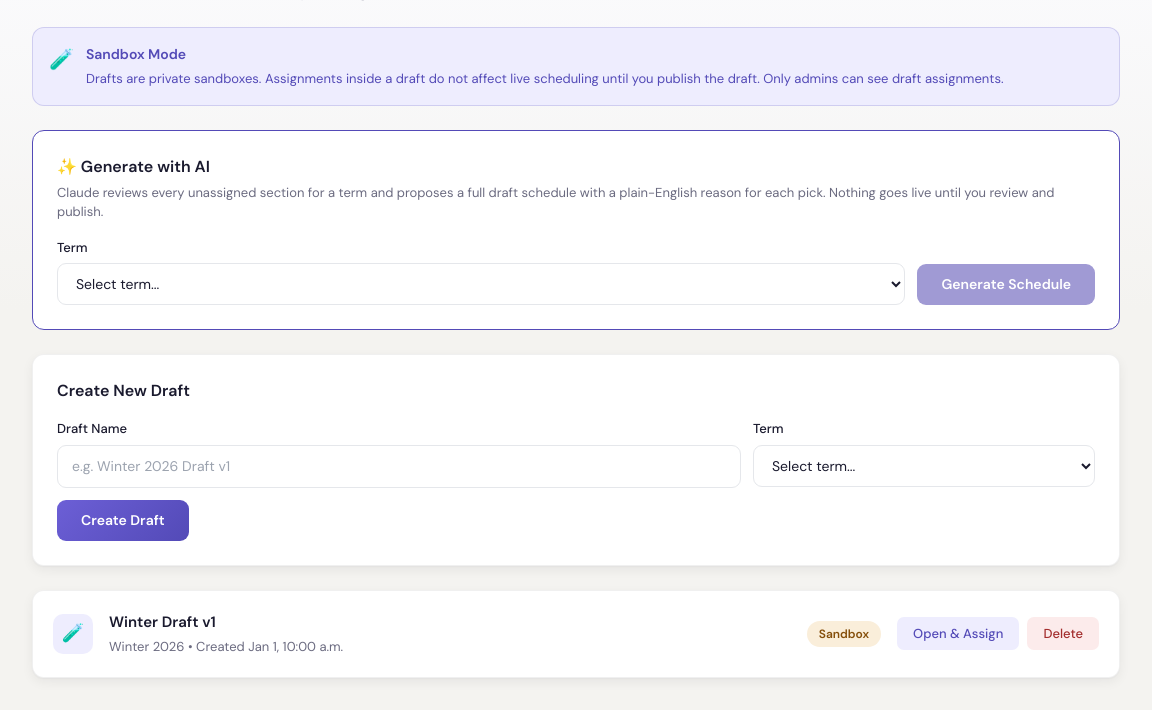
Scenario: AdminDrafts › deletes a draft, clearing its assignments first
(page scrolled)
Check: the link "Winter Draft v1" is shown, box x1=109 y1=612 x2=216 y2=632
Click the button "Delete".
click(1063, 634)  # box x1=1027 y1=617 x2=1099 y2=650
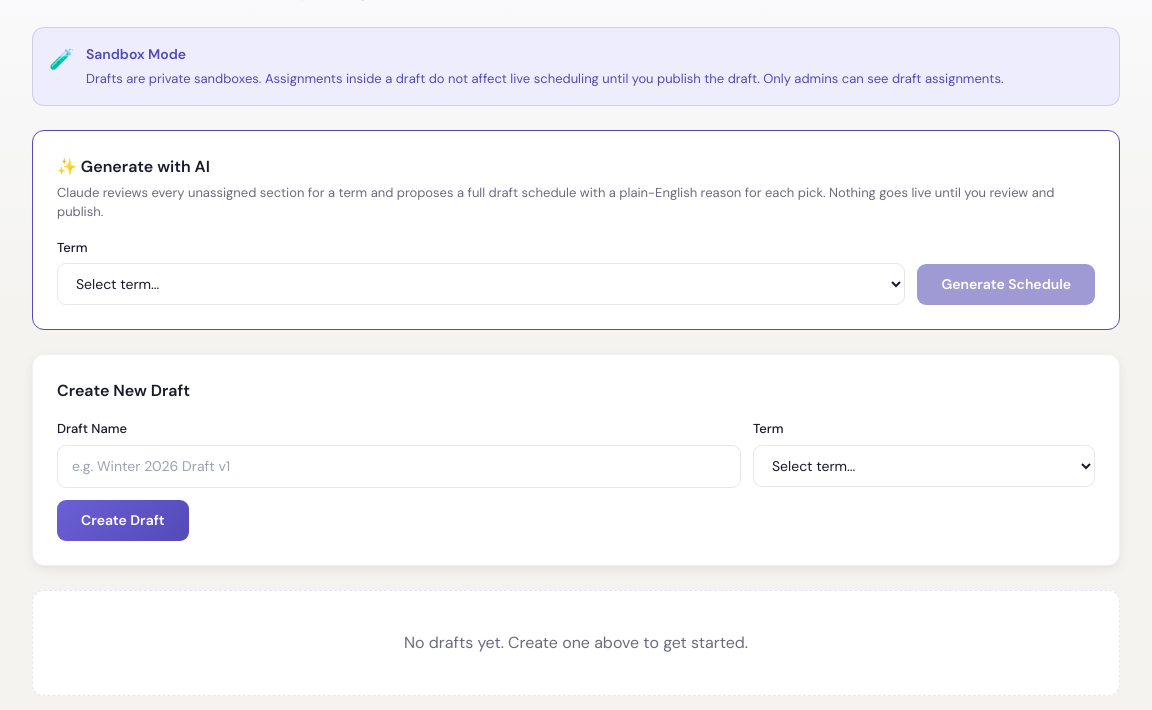
Check: the link "Winter Draft v1" is gone
